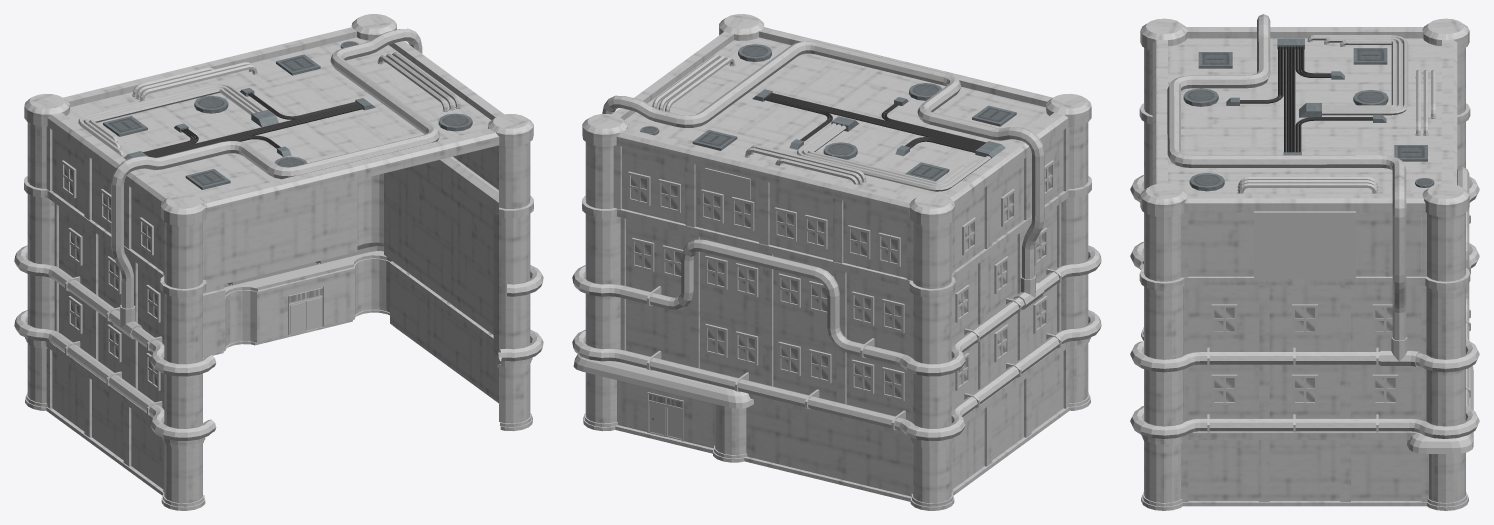
Rendered from REDUCTION_SM_ENV_KNVLLG_CommonBuilding_F_1.mo.fbx.
3 renders of one model, left to right at view 1: azimuth 30°, elevation 25°; view 2: azimuth 150°, elevation 25°; view 3: azimuth 270°, elevation 25°, orthographic. The views are drawn at different scales.
Parts seen in each view (by area): view 1: REDUCTION_SM_ENV_KNVLLG_CommonBuilding_F_1.mo; view 2: REDUCTION_SM_ENV_KNVLLG_CommonBuilding_F_1.mo; view 3: REDUCTION_SM_ENV_KNVLLG_CommonBuilding_F_1.mo.
Boxes of the visible parts, bbox=[...] form: REDUCTION_SM_ENV_KNVLLG_CommonBuilding_F_1.mo: bbox=[14, 14, 543, 510]; REDUCTION_SM_ENV_KNVLLG_CommonBuilding_F_1.mo: bbox=[572, 14, 1101, 510]; REDUCTION_SM_ENV_KNVLLG_CommonBuilding_F_1.mo: bbox=[1130, 14, 1479, 510].
Size of the model in its own units: 33.95 by 26.03 by 25.89.
